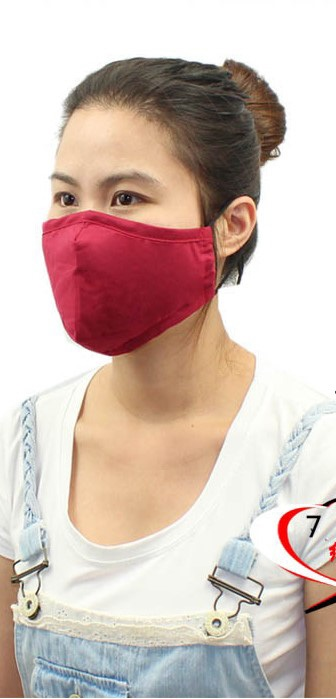face_mask: (47, 86, 181, 352)
